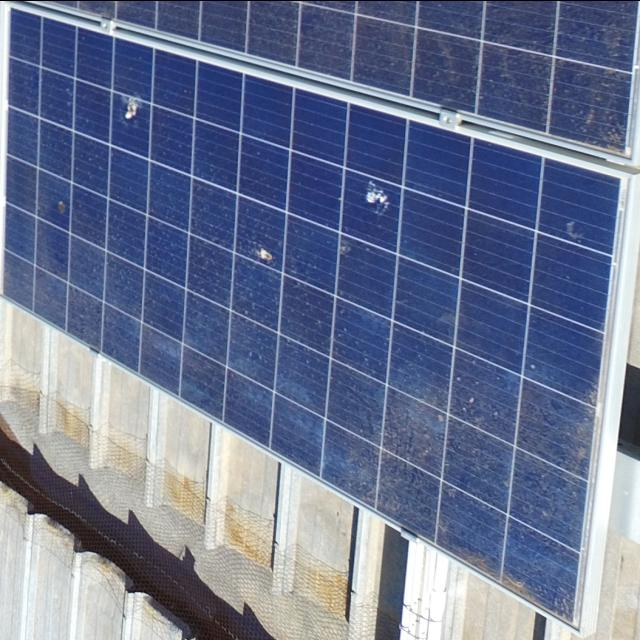Dust: (321, 368, 588, 616), (294, 0, 635, 144), (1, 238, 127, 338), (76, 2, 286, 50)
bird-droppings: (360, 175, 392, 218), (120, 86, 142, 126), (248, 240, 282, 264), (51, 192, 72, 218), (334, 233, 353, 260)
